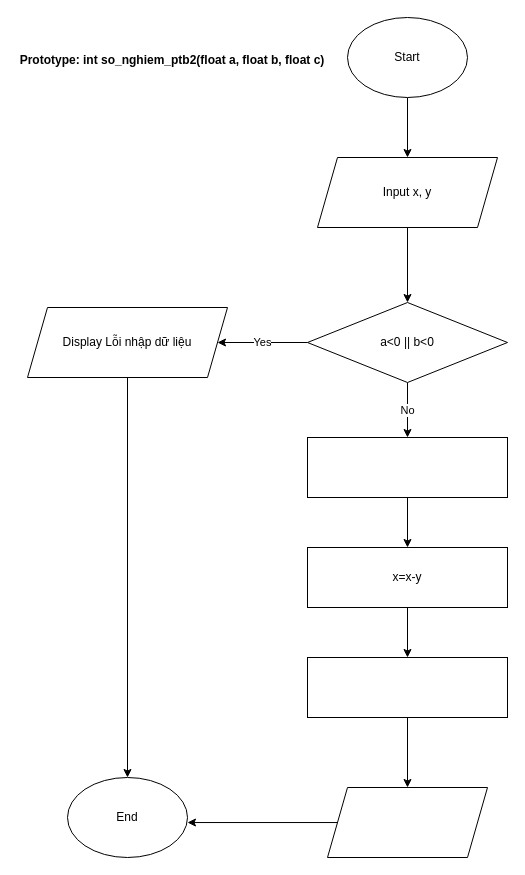
The diagram is 525 pixels wide and 875 high, and some of its shapes have lost their labels. The shapes that lost their labels are listed below. From the top down, each one's centre as x and y in pixels, then its label:
(x=407, y=467): x=x+y
(x=407, y=687): y=x-y
(x=407, y=822): Display x, y
